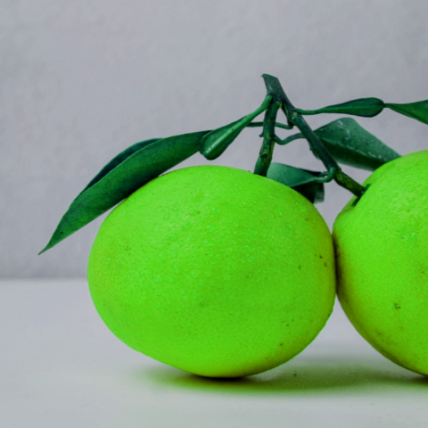orange: (63, 142, 363, 392)
